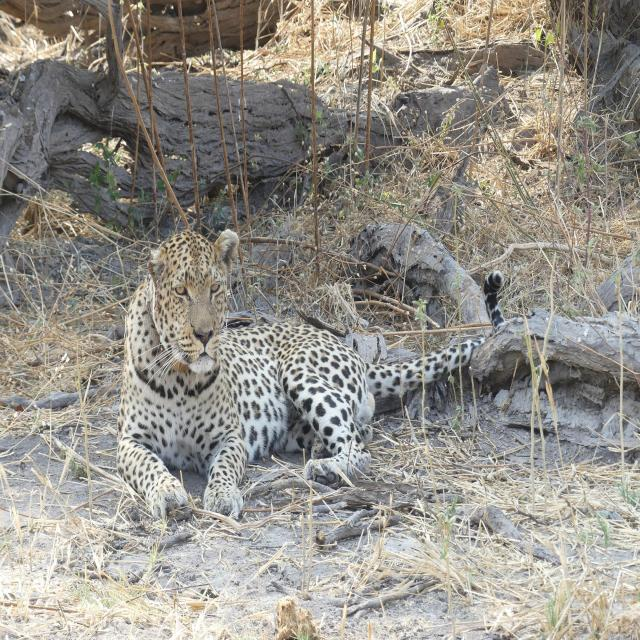Leopard: (102, 232, 524, 514)
